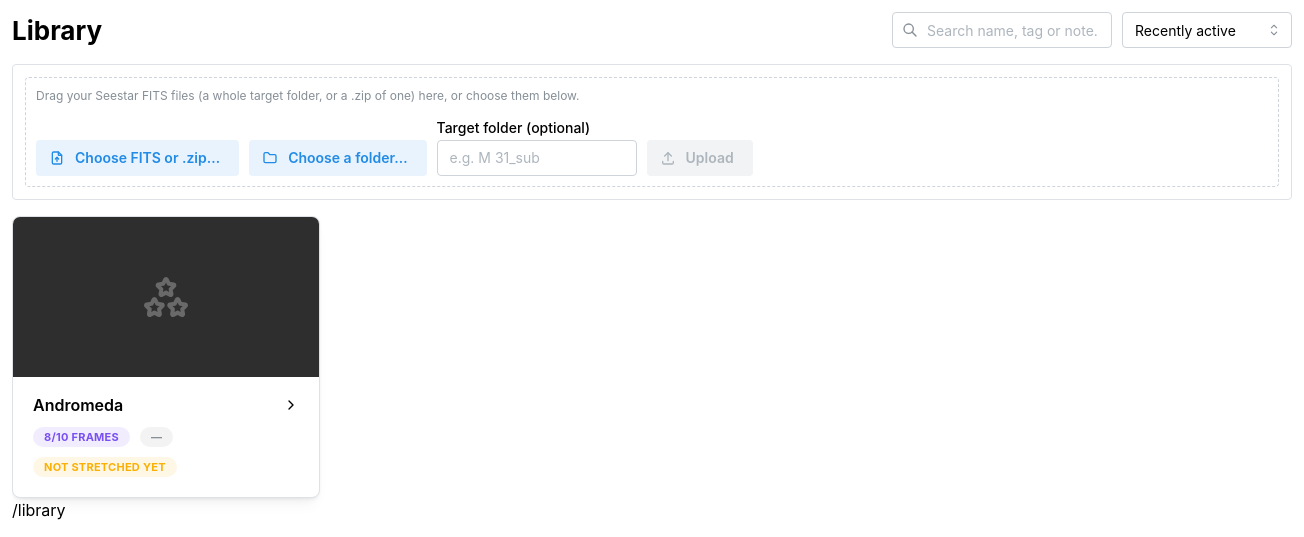
Scenario: Library — the "Not stretched yet" chip › leaves the rest of the card going to the target, as it always did
Click the text "Andromeda" at (78, 405), box [33, 393, 123, 417]
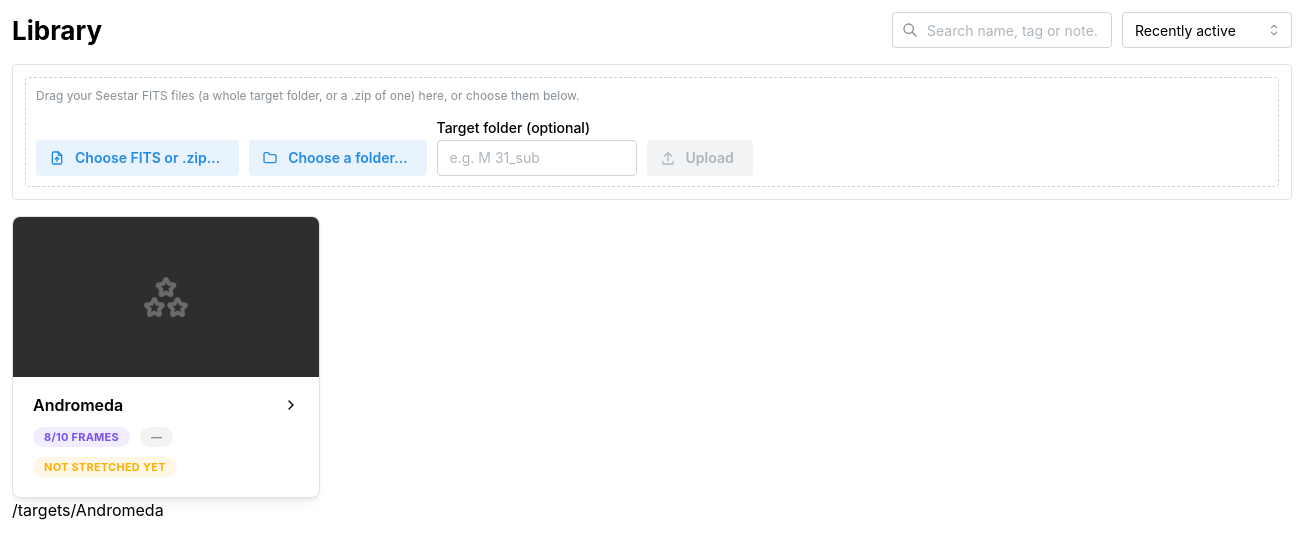
Expected: the text with test id "where" does not show "/edit/", [12, 500, 164, 520]
Now the text with test id "where" reads "/targets/Andromeda", box [12, 500, 164, 520]
